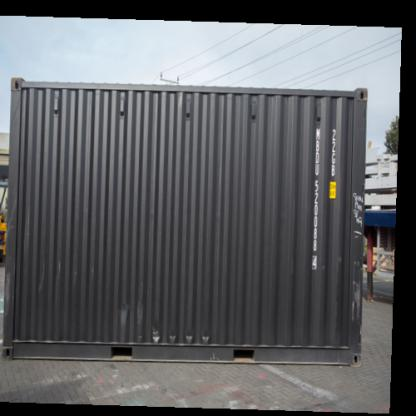Damage: (344, 188, 367, 318), (139, 331, 219, 349), (112, 299, 150, 336), (1, 247, 13, 325)
